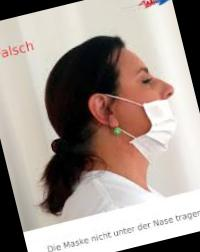mask_weared_incorrect: (120, 58, 193, 166)
